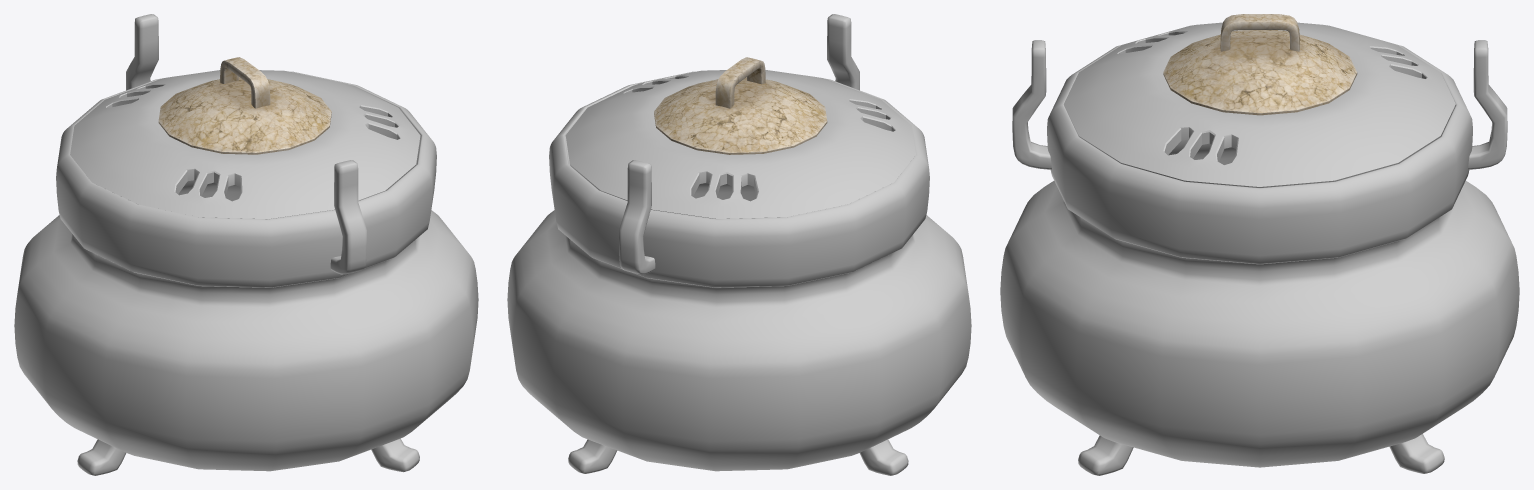
File: bunner.fbx
The picture shows the model from 3 angles, left to right: view 1: azimuth 30°, elevation 25°; view 2: azimuth 150°, elevation 25°; view 3: azimuth 270°, elevation 25°; orthographic projection. The views are drawn at different scales.
Parts seen in each view (by area): view 1: burner; view 2: burner; view 3: burner.
Part boxes in pixels (x1,y1,x2,y2): burner: (14,14,478,475); burner: (507,14,971,475); burner: (1000,14,1519,475).
Bounding box in the file's own units: 15.73 × 13.59 × 15.73.
